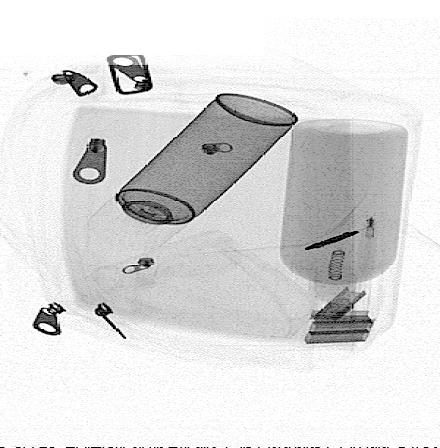Sprayer: (85, 92, 300, 254)
